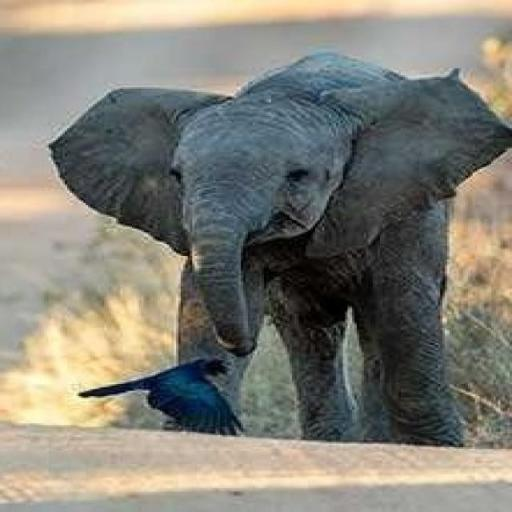Elephant: (46, 50, 510, 446)
